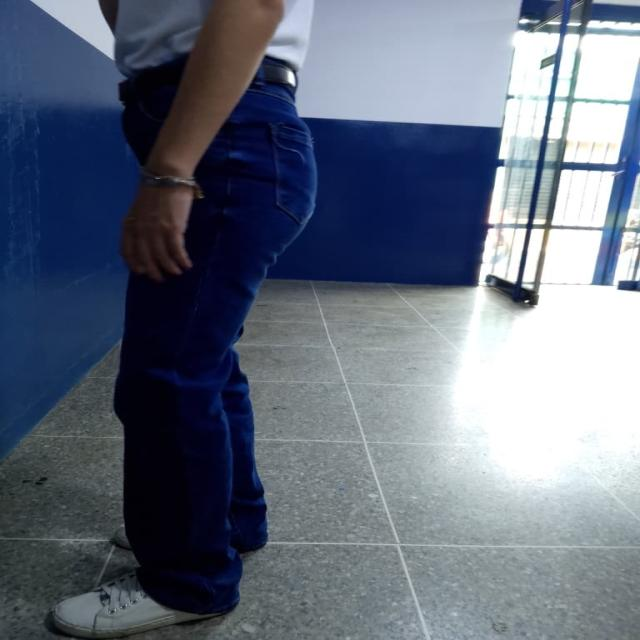pantalon_oscuro: (114, 84, 320, 619)
